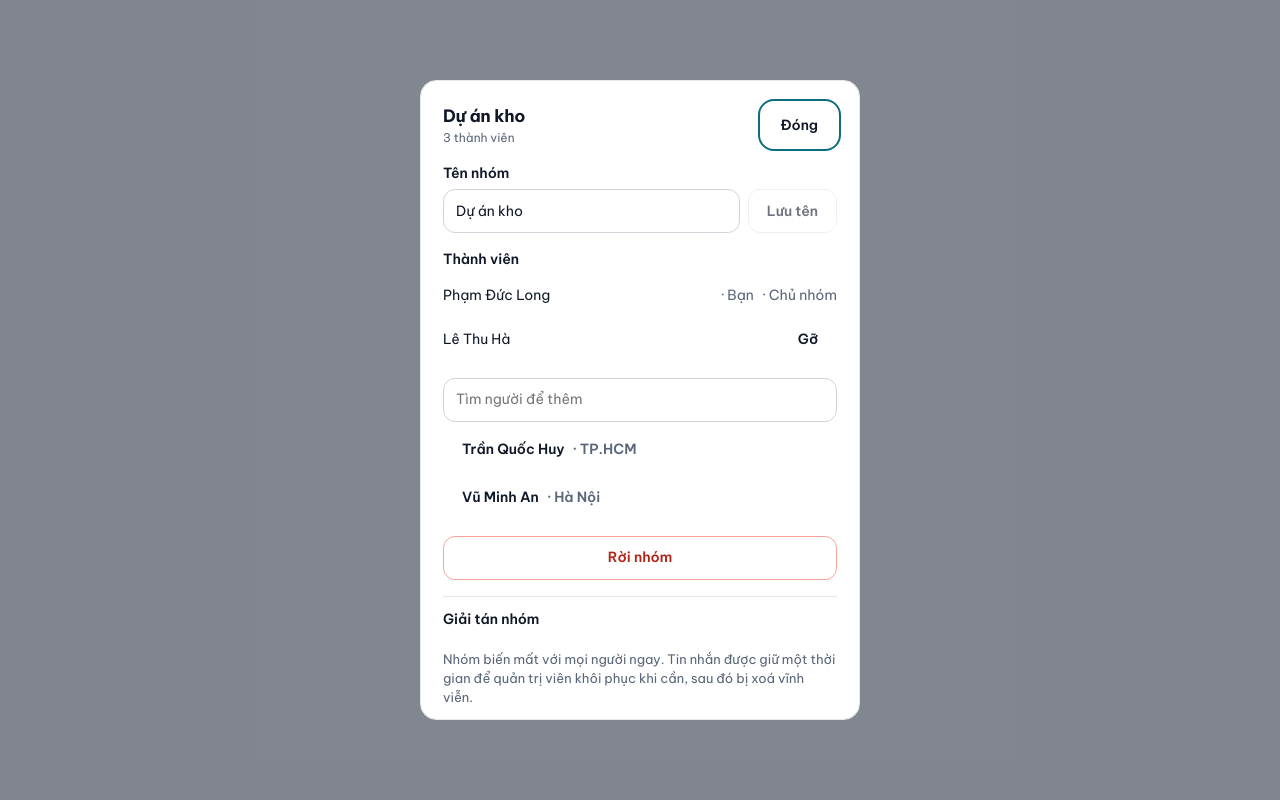
Scenario: GroupPanel › adds a member from the directory excluding people already in the group
This screenshot has width=1280, height=800.
expect the button "Vũ Minh An · Hà Nội" is shown: met, box [443,476,837,520]
What coordinates should you click on to do the following:
click the button "Trần Quốc Huy · TP.HCM"
I would click on:
 (513, 449)
Its box is [443,428,837,472].
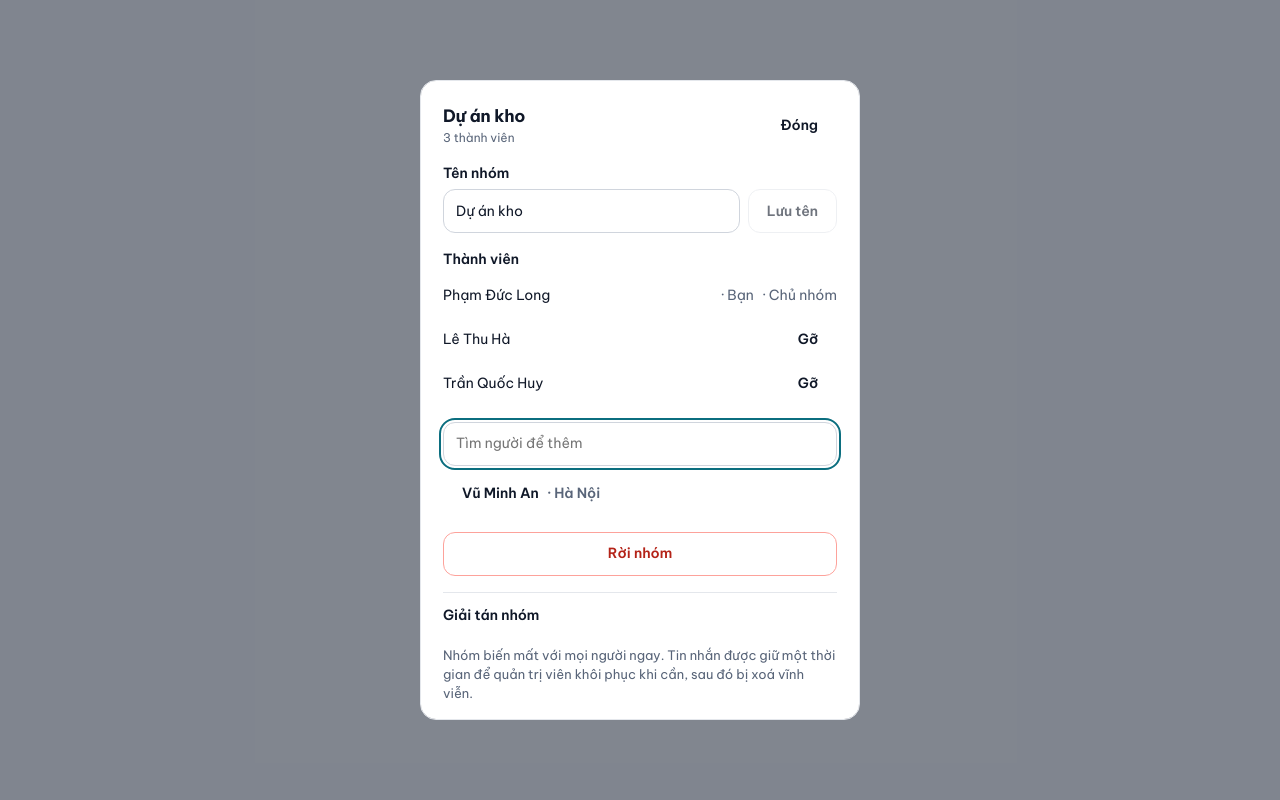
expect the button with aria-label "Gỡ Trần Quốc Huy khỏi nhóm" is shown: met, box [779,362,837,406]
expect the button "Trần Quốc Huy · " is gone: met
